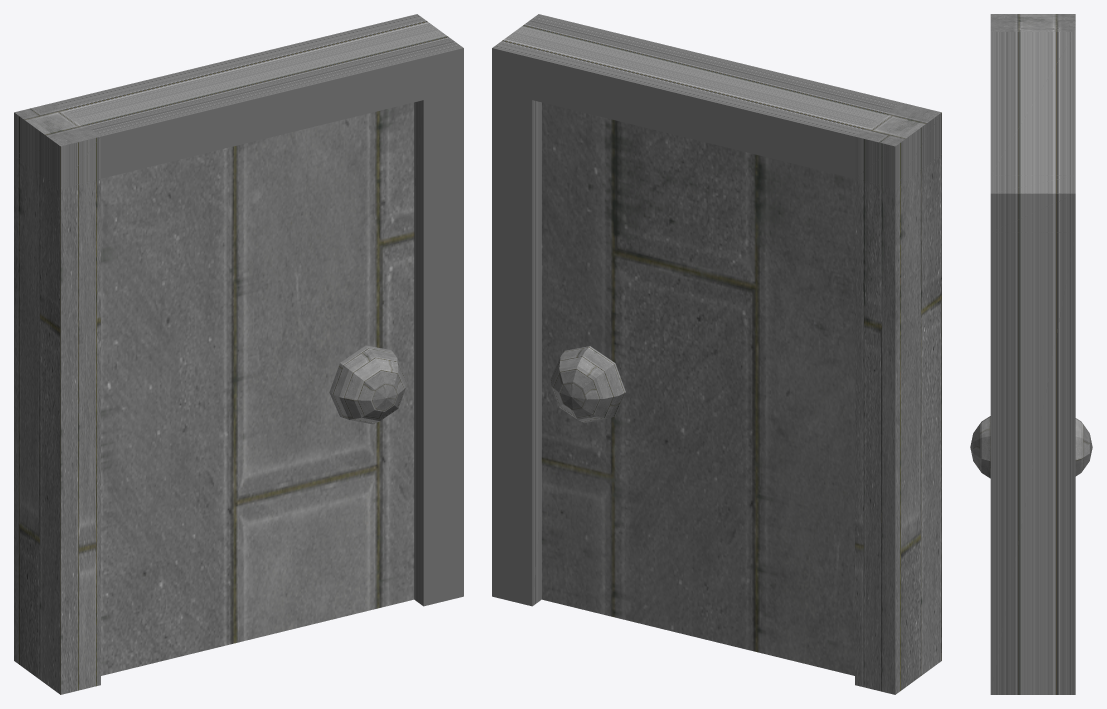
Rendered from door.glb.
The picture shows the model from 3 angles, left to right: view 1: azimuth 30°, elevation 25°; view 2: azimuth 150°, elevation 25°; view 3: azimuth 270°, elevation 25°; orthographic projection. The views are drawn at different scales.
Visible parts, largest first — view 1: door, door_root; view 2: door, door_root; view 3: door_root, door.
Boxes of the visible parts, box(x1,y1,x2,y2) form: door: box(101, 102, 414, 675); door_root: box(14, 14, 463, 694); door: box(541, 102, 854, 675); door_root: box(492, 14, 941, 694); door_root: box(990, 14, 1075, 694); door: box(970, 416, 1092, 478).
Size of the model in its own units: 5 by 6.5 by 1.44.
1 material, 1 textured.
